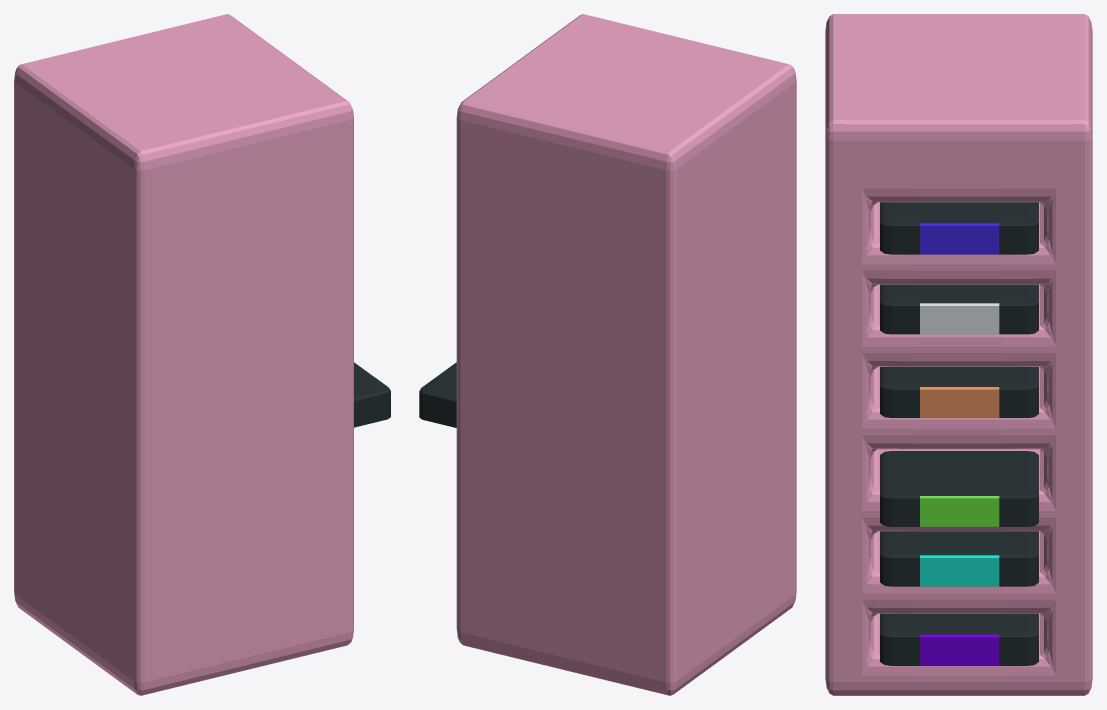
Rendered from shelfState3.glb.
3 views of the same model, side by side, from view 1: azimuth 30°, elevation 25°; view 2: azimuth 150°, elevation 25°; view 3: azimuth 270°, elevation 25° (orthographic). The views are drawn at different scales.
Parts seen in each view (by area): view 1: Cube, Cube.004; view 2: Cube, Cube.004; view 3: Cube, Cube.004, Cube.005, Cube.006, Cube.003, Cube.001, Cube.002.
Boxes of the visible parts, bbox=[...] form: Cube: bbox=[14, 14, 353, 695]; Cube.004: bbox=[354, 362, 390, 427]; Cube: bbox=[456, 14, 796, 695]; Cube.004: bbox=[419, 362, 456, 427]; Cube: bbox=[825, 14, 1092, 695]; Cube.004: bbox=[880, 451, 1038, 526]; Cube.005: bbox=[880, 531, 1038, 586]; Cube.006: bbox=[880, 613, 1038, 665]; Cube.003: bbox=[880, 202, 1038, 254]; Cube.001: bbox=[880, 367, 1038, 417]; Cube.002: bbox=[880, 284, 1038, 334].
Bounding box in the file's own units: 2.58 × 4.76 × 2.
